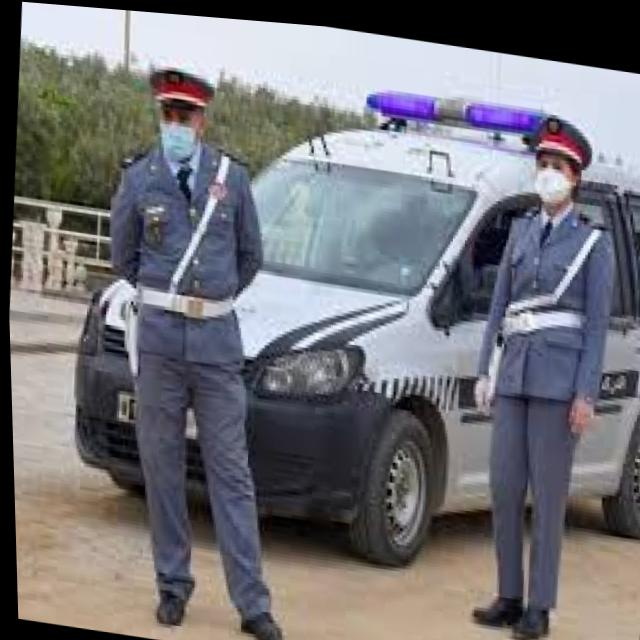gendarme car: (46, 27, 640, 603)
